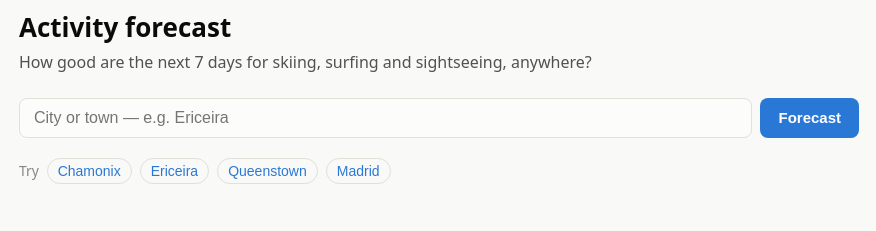
Test: a failed request is announced as an alert
Type "Ericeira" into the field labelled "City or town" at (386, 118), box x1=19 y1=98 x2=752 y2=138
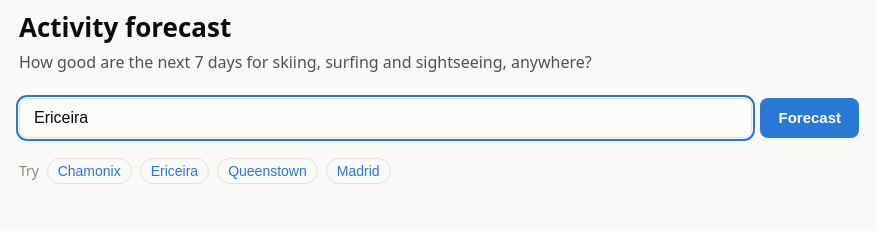
Click the button "Forecast" at (810, 118), box x1=760 y1=98 x2=859 y2=138
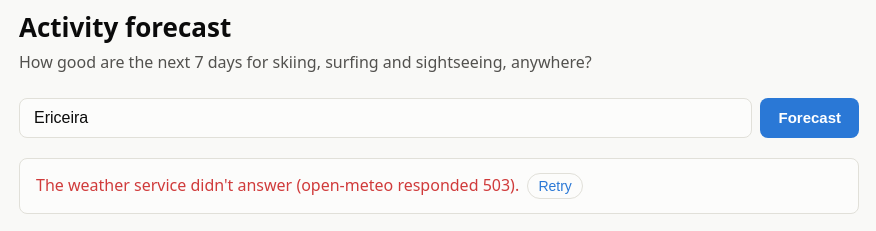
Expected: the message shows "open-meteo responded 503", x1=301 y1=174 x2=510 y2=196
